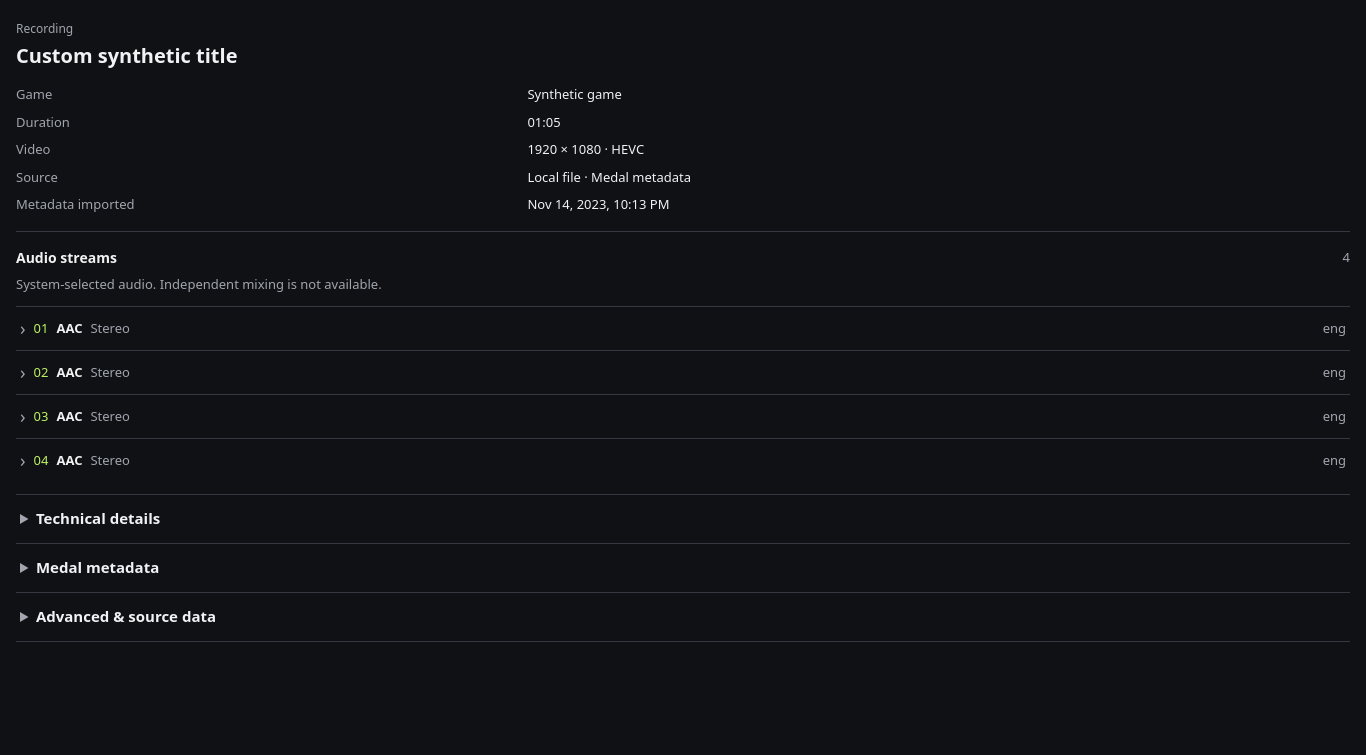
it: shows descriptive Medal fields and localized dates without IDs, field paths or duplicated ISO dates
The width and height of the screenshot is (1366, 755).
Click the heading "Medal metadata". click: (98,567)
box: [36,557,159,577]
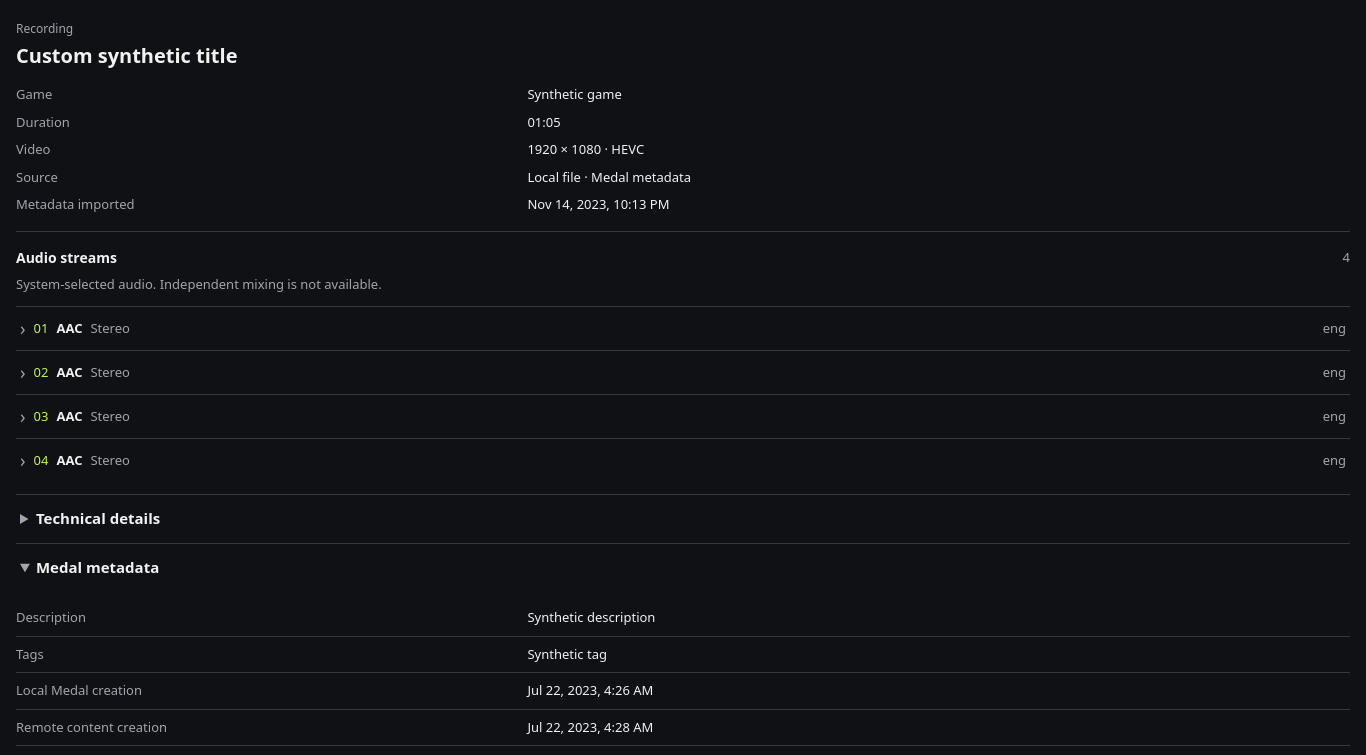
Result: the text "Synthetic description" is shown at [527,608,655,626]
Result: the text "Synthetic tag" is shown at [527,644,607,662]
Result: the text "Medal metadata" shows "Local Medal creation" at [16,681,142,699]
